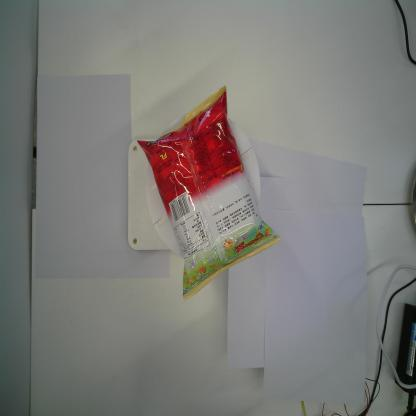Puffed Food: (136, 85, 279, 302)
